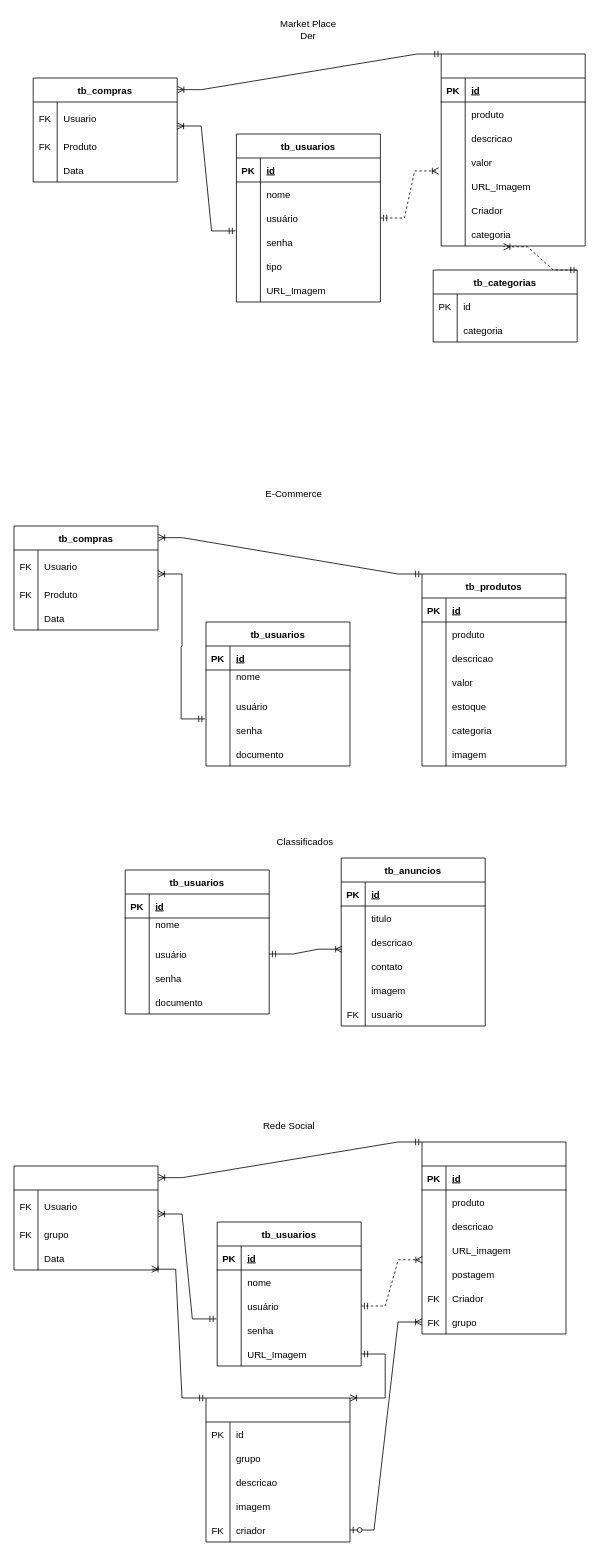
The diagram is 599 pixels wide and 1556 high, and some of its shapes have lost their labels. Each missing label, with the box of its shape:
tb_grupos: (205, 1397, 350, 1542)
tb_inscritos: (13, 1165, 158, 1270)
tb_postagens: (421, 1141, 566, 1334)
tb_tabelas: (440, 53, 585, 246)
